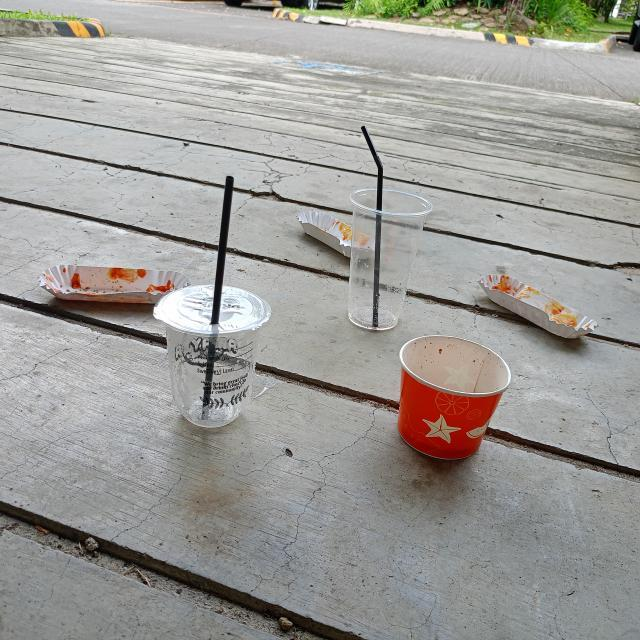recyclable waste: (147, 276, 280, 434), (385, 327, 516, 468), (342, 181, 440, 336), (468, 266, 606, 348), (30, 257, 198, 311), (292, 202, 384, 265)
